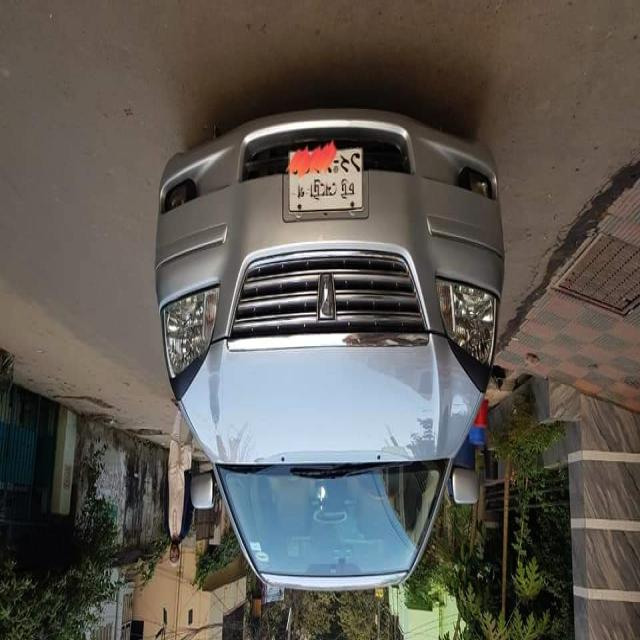silver: (157, 74, 499, 580)
